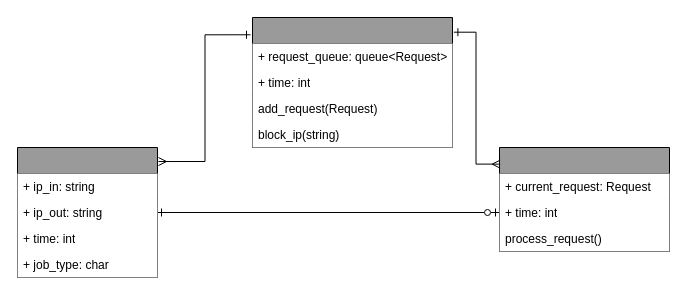
Some shapes in this 687 by 298 pixel diagram are drawn without their labels. The shapes that lost their labels are listed below. From the top down, each one's box as (x1, y1, x2, y2) in pixels, then its label:
(252, 16, 452, 148): Load Balancer
(16, 146, 158, 278): Request
(498, 146, 670, 252): Webserver
